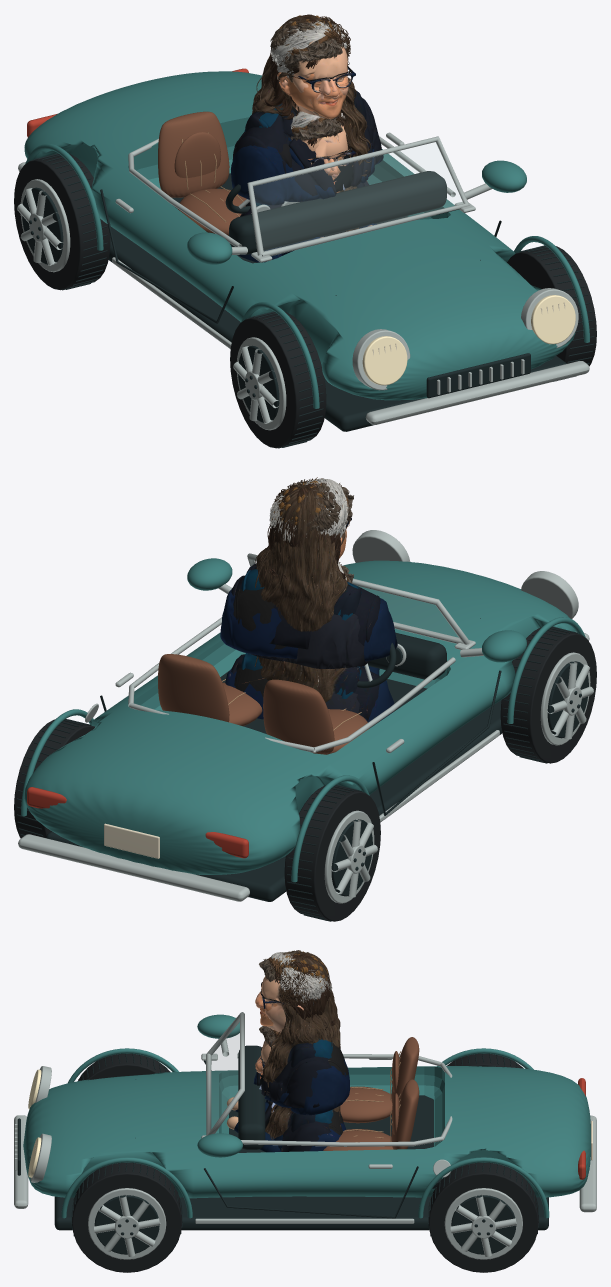
Rendered from racer-kit.glb.
3 renders of one model, top to bottom at view 1: azimuth 30°, elevation 25°; view 2: azimuth 150°, elevation 25°; view 3: azimuth 270°, elevation 25°, orthographic. The views are drawn at different scales.
Visible parts, largest first — view 1: Vehicle / Coupe paint, Vehicle / Charcoal, Windscreen, Vehicle / Satin aluminium, Vehicle / Saddle leather, Road tire.001, Road tire, dario / portrait sculpture, elon / portrait sculpture, Vehicle / Warm headlight, Road tire.003, jensen / portrait sculpture (+10 smaller); view 2: Vehicle / Coupe paint, Vehicle / Satin aluminium, Vehicle / Saddle leather, Vehicle / Charcoal, mira / portrait sculpture, Road tire, Road tire.001, sam / portrait sculpture, dario / portrait sculpture, Wheel_RL / Satin aluminium, Wheel_FL / Satin aluminium, jensen / portrait sculpture (+13 smaller); view 3: Vehicle / Coupe paint, Vehicle / Charcoal, Vehicle / Satin aluminium, Road tire.003, Road tire.002, Vehicle / Saddle leather, dario / portrait sculpture, mira / portrait sculpture, Wheel_RR / Satin aluminium, Wheel_FR / Satin aluminium, elon / portrait sculpture, Windscreen (+10 smaller).
Part boxes in pixels (x1,y1,x2,y2): Vehicle / Coupe paint: (24, 71, 589, 408); Vehicle / Charcoal: (100, 171, 566, 431); Windscreen: (254, 142, 463, 250); Vehicle / Satin aluminium: (18, 132, 589, 424); Vehicle / Saddle leather: (158, 111, 367, 235); Road tire.001: (230, 312, 326, 448); Road tire: (14, 154, 110, 290); dario / portrait sculpture: (231, 15, 383, 205); elon / portrait sculpture: (233, 21, 381, 196); Vehicle / Warm headlight: (362, 295, 575, 385); Road tire.003: (507, 246, 596, 366); jensen / portrait sculpture: (270, 20, 352, 167); Vehicle / Coupe paint: (21, 558, 585, 882); Vehicle / Satin aluminium: (18, 530, 589, 901); Vehicle / Saddle leather: (158, 654, 369, 754); Vehicle / Charcoal: (46, 618, 502, 901); mira / portrait sculpture: (246, 483, 361, 631); Road tire: (284, 785, 380, 921); Road tire.001: (500, 627, 596, 763); sam / portrait sculpture: (251, 482, 369, 668); dario / portrait sculpture: (220, 478, 397, 661); Wheel_RL / Satin aluminium: (324, 810, 377, 903); Wheel_FL / Satin aluminium: (540, 652, 593, 745); jensen / portrait sculpture: (233, 478, 351, 654); Vehicle / Coupe paint: (23, 1014, 590, 1218); Vehicle / Charcoal: (17, 1045, 548, 1230); Vehicle / Satin aluminium: (14, 1012, 596, 1223); Road tire.003: (72, 1162, 182, 1272); Road tire.002: (428, 1162, 538, 1272); Vehicle / Saddle leather: (323, 1037, 419, 1150); dario / portrait sculpture: (253, 955, 350, 1115); mira / portrait sculpture: (263, 952, 340, 1095); Wheel_RR / Satin aluminium: (444, 1188, 522, 1259); Wheel_FR / Satin aluminium: (88, 1188, 166, 1259); elon / portrait sculpture: (256, 953, 331, 1108); Windscreen: (210, 1020, 239, 1129).
Bounding box in the file's own units: 2.2 × 1.99 × 4.07.
Materials: 31 (7 with a texture image).
